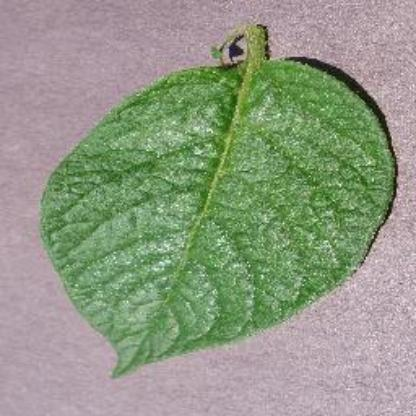Healthy-plant: (40, 24, 398, 378)
